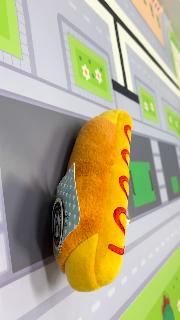hotdog: (50, 109, 134, 293)
